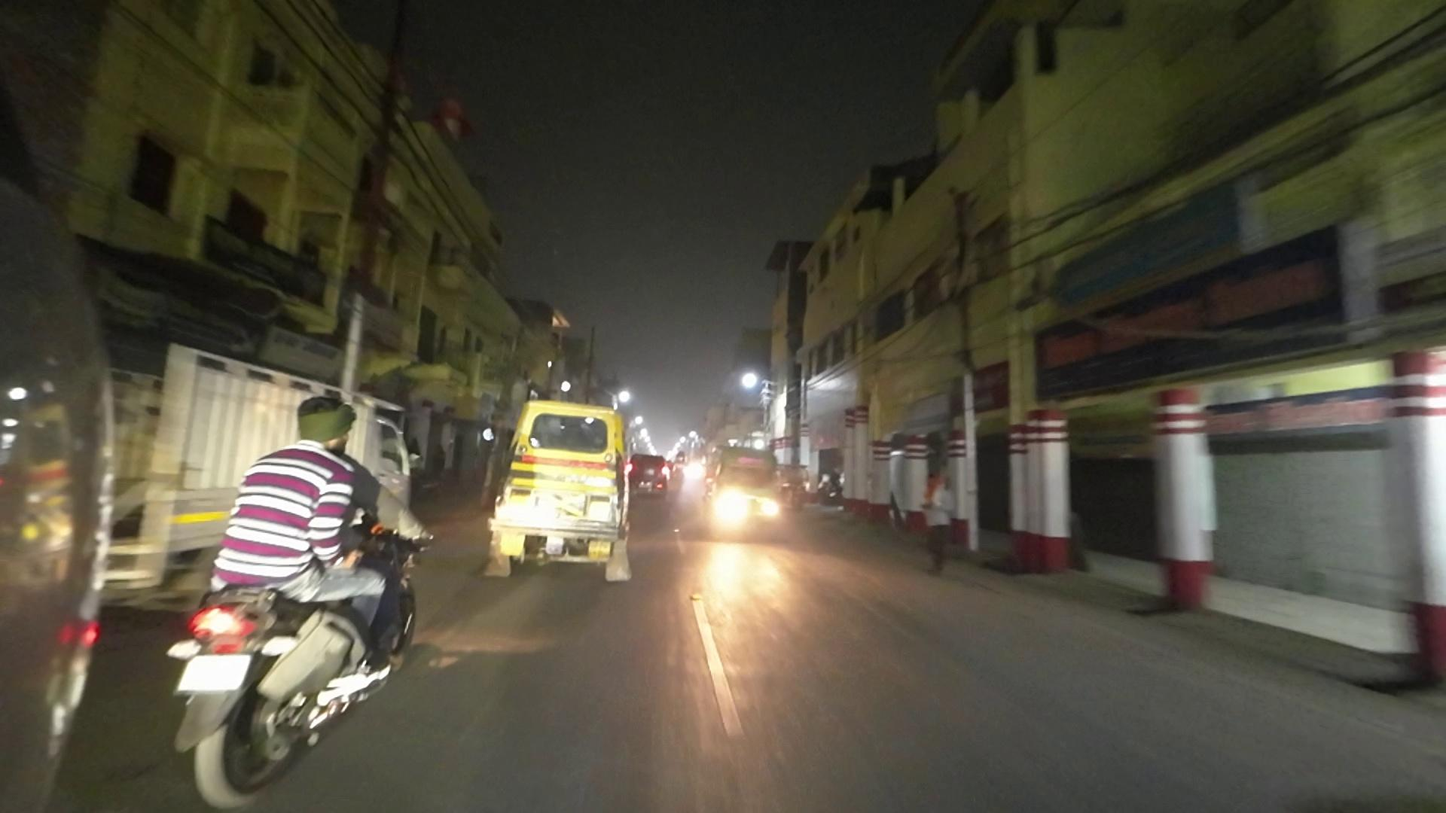streetlight: (427, 92, 474, 143)
